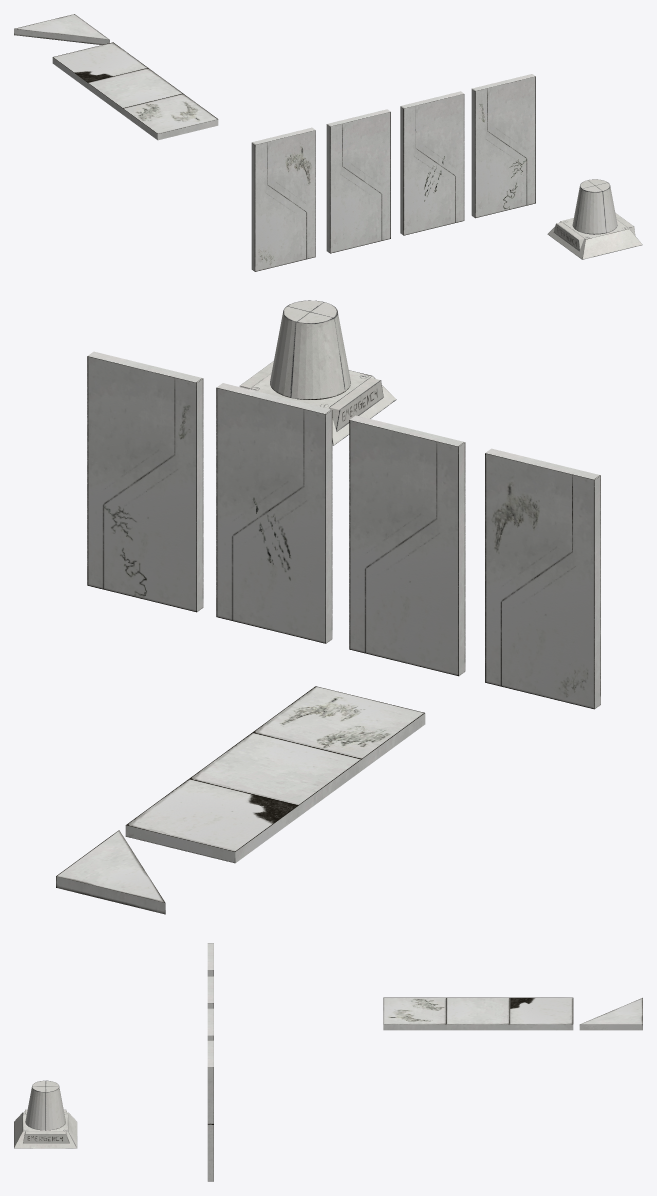
The model's file is FloorD.fbx.
The picture shows the model from 3 angles, top to bottom: view 1: azimuth 30°, elevation 25°; view 2: azimuth 150°, elevation 25°; view 3: azimuth 270°, elevation 25°; orthographic projection. The views are drawn at different scales.
Visible parts, largest first — view 1: WallA, WallB, WallD, WallC, Cube, FloorC, FloorA, FloorB, FloorB.001; view 2: WallC, WallB, WallA, WallD, Cube, FloorA, FloorC, FloorB, FloorB.001; view 3: Cube, FloorC, FloorA, FloorB, FloorB.001, WallA.
Boxes of the visible parts, x1,y1,x2,y2 form: WallA: (471,74,535,218); WallB: (400,91,464,235); WallD: (251,127,315,271); WallC: (326,109,390,253); Cube: (547,179,642,259); FloorC: (122,93,218,140); FloorA: (52,42,147,88); FloorB: (87,68,182,114); FloorB.001: (14,14,109,44); WallC: (349,415,465,676); WallB: (216,383,332,643); WallA: (87,351,203,612); WallD: (485,448,600,709); Cube: (239,300,396,445); FloorA: (125,779,298,863); FloorC: (252,686,425,770); FloorB: (189,732,361,816); FloorB.001: (56,830,165,914); Cube: (14,1080,77,1148); FloorC: (383,997,446,1030); FloorA: (510,997,573,1030); FloorB: (446,997,509,1030); FloorB.001: (579,998,642,1030); WallA: (207,1040,213,1181).
Bounding box in the file's own units: 925 × 400 × 1987.
